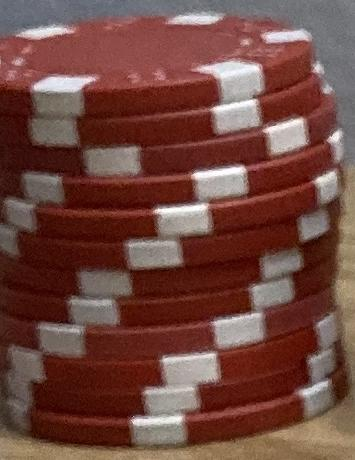Chip: (1, 1, 355, 460)
